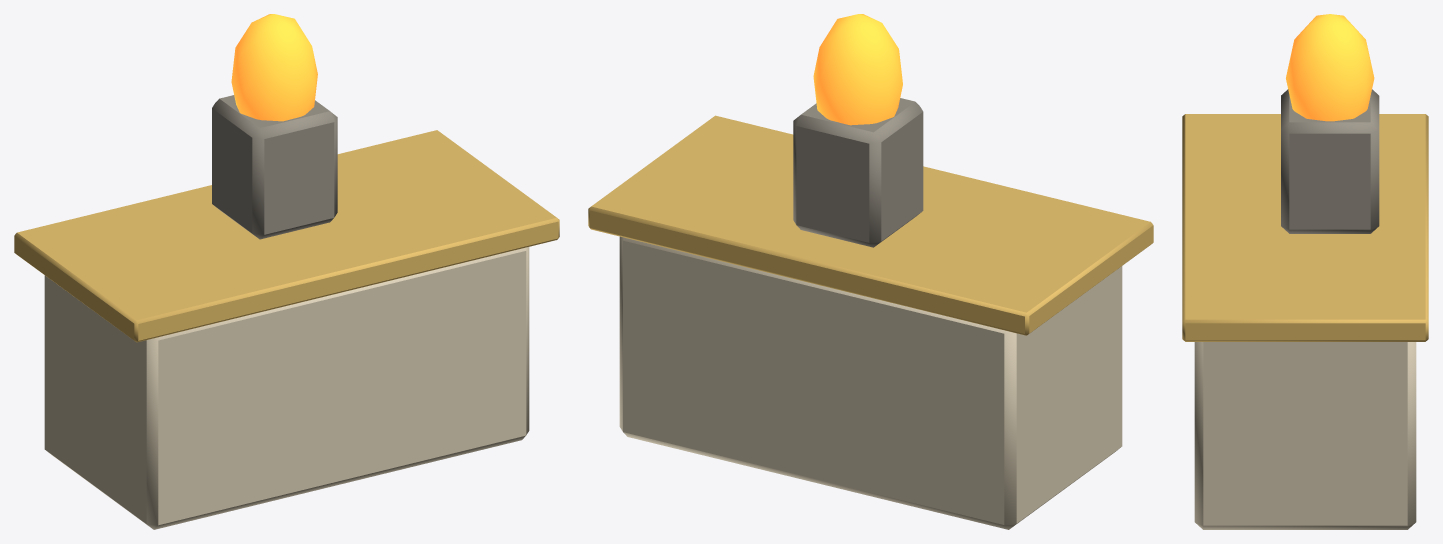
Rendered from altar.glb.
The picture shows the model from 3 angles, left to right: view 1: azimuth 30°, elevation 25°; view 2: azimuth 150°, elevation 25°; view 3: azimuth 270°, elevation 25°; orthographic projection. The views are drawn at different scales.
Visible parts, largest first — view 1: building, fire; view 2: building, fire; view 3: building, fire.
Boxes of the visible parts, bbox=[...] form: building: bbox=[14, 95, 559, 529]; fire: bbox=[231, 14, 317, 121]; building: bbox=[588, 98, 1153, 529]; fire: bbox=[813, 14, 902, 125]; building: bbox=[1182, 89, 1428, 529]; fire: bbox=[1286, 14, 1374, 121].
Bounding box in the file's own units: 2 × 1.91 × 1.
